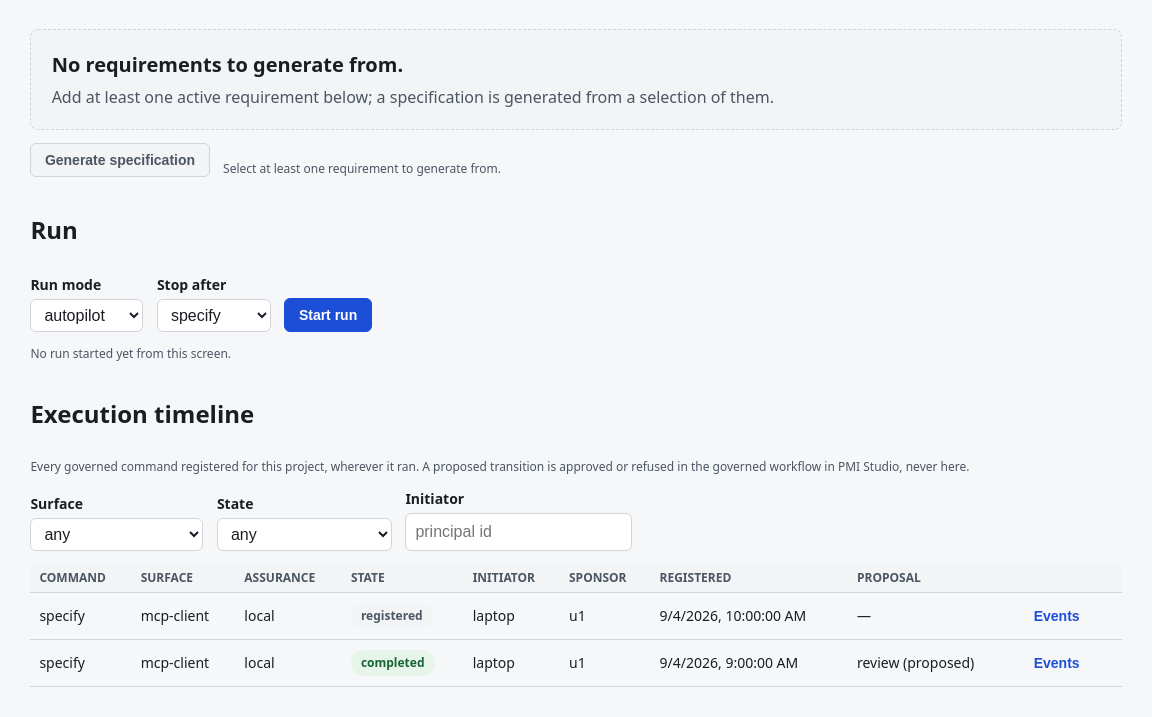
it: T1433 · Execution timeline › expanding a row lists its events in sequence with type, actor and time
The width and height of the screenshot is (1152, 717).
(page scrolled)
Click the button "Events" in the row of "9/4/2026, 10:00:00 AM" at (1057, 616), box top-left (1019, 599), bottom-right (1094, 633)
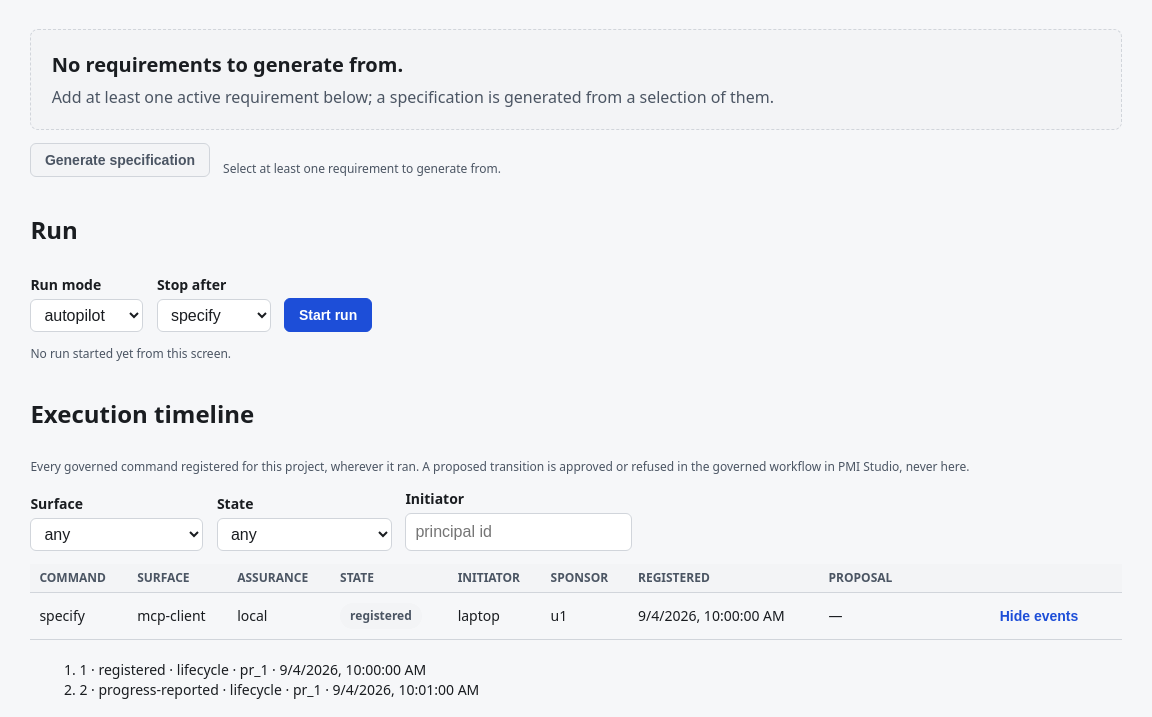
Now the list item "progress-reported" is shown, box top-left (98, 680), bottom-right (219, 699)
Now the list item "1 · registered · lifecycle · pr_1 · 9/4/2026, 10:00:00 AM" is shown, box top-left (79, 660), bottom-right (426, 679)
Now the list item that starts with "progress-reported" reads "2 · progress-reported · lifecycle · pr_1 · 9/4/2026, 10:01:00 AM", box top-left (79, 680), bottom-right (479, 699)
